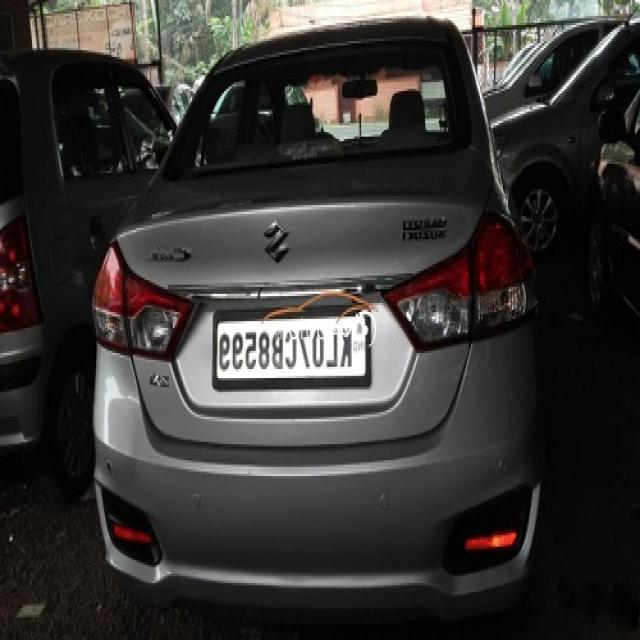number-plate: (217, 312, 371, 391)
